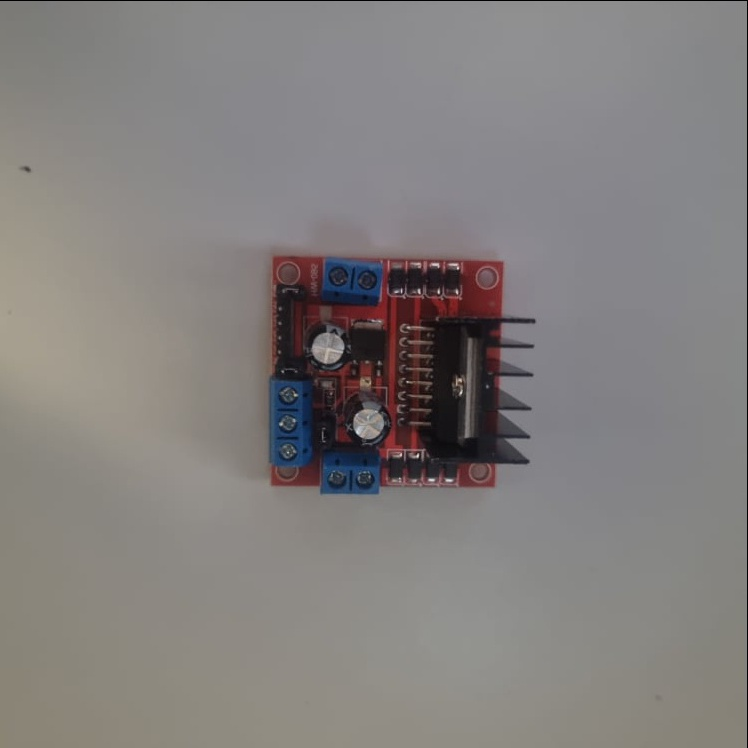MOTOR: (265, 257, 538, 494)
